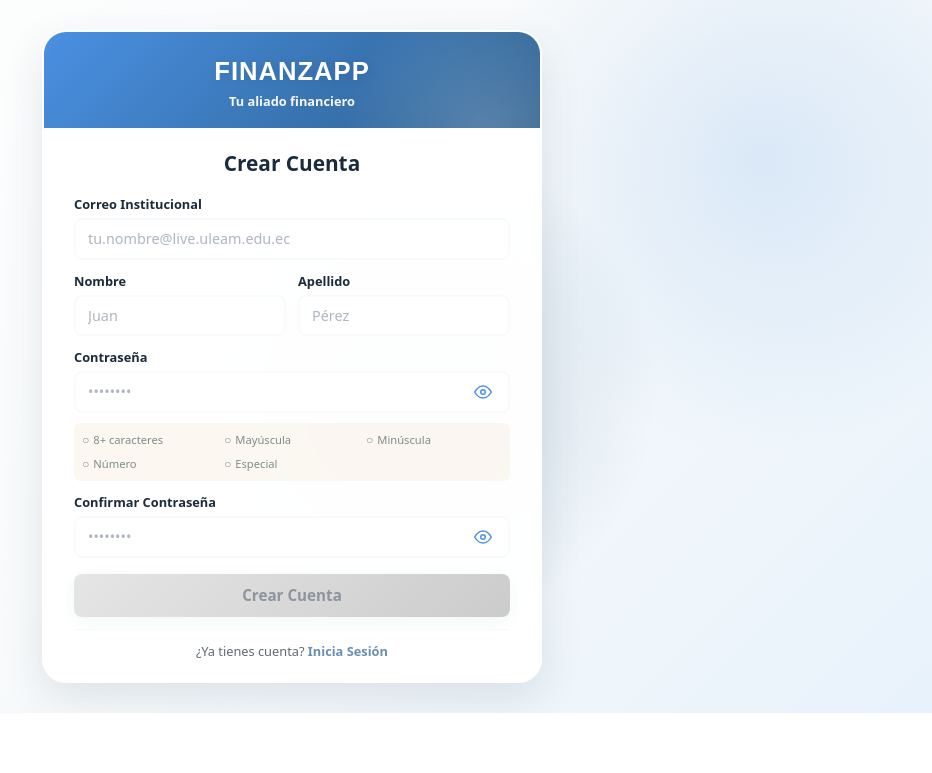
Scenario: Register.vue › Muestra el estado de carga mientras se procesa el registro
This screenshot has width=932, height=773.
Step 1. Type "e1315844999@live.uleam.edu.ec" into the field labelled "Correo Institucional" → (292, 239), box [74,218,510,260]
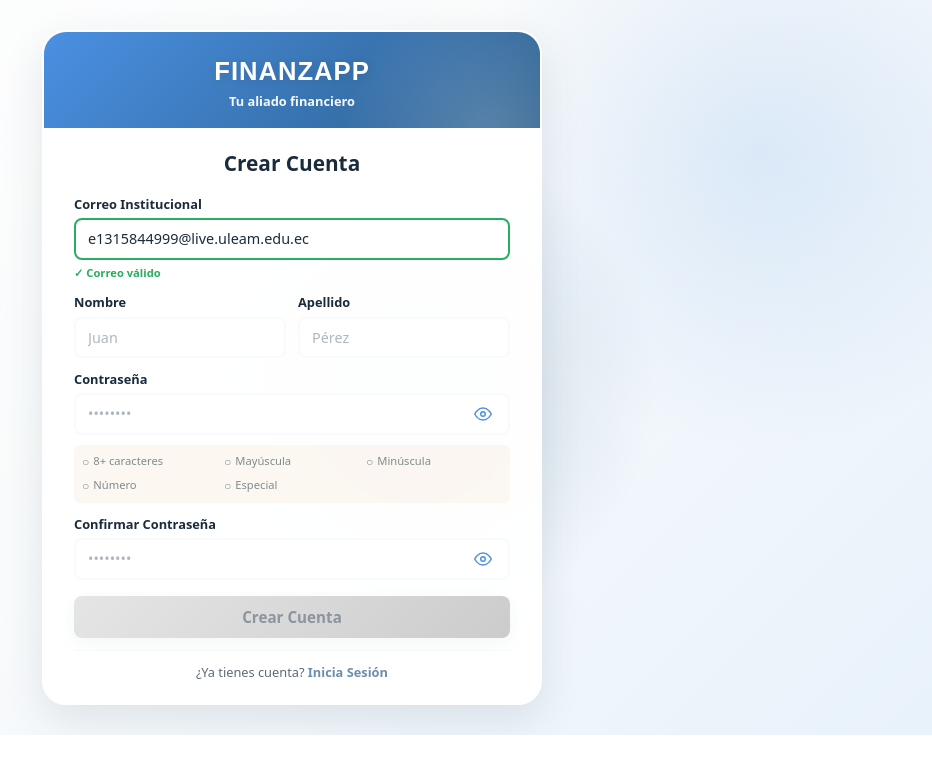
Step 2. Type "David" into the field with id "firstName" → (180, 337), box [74,316,286,358]
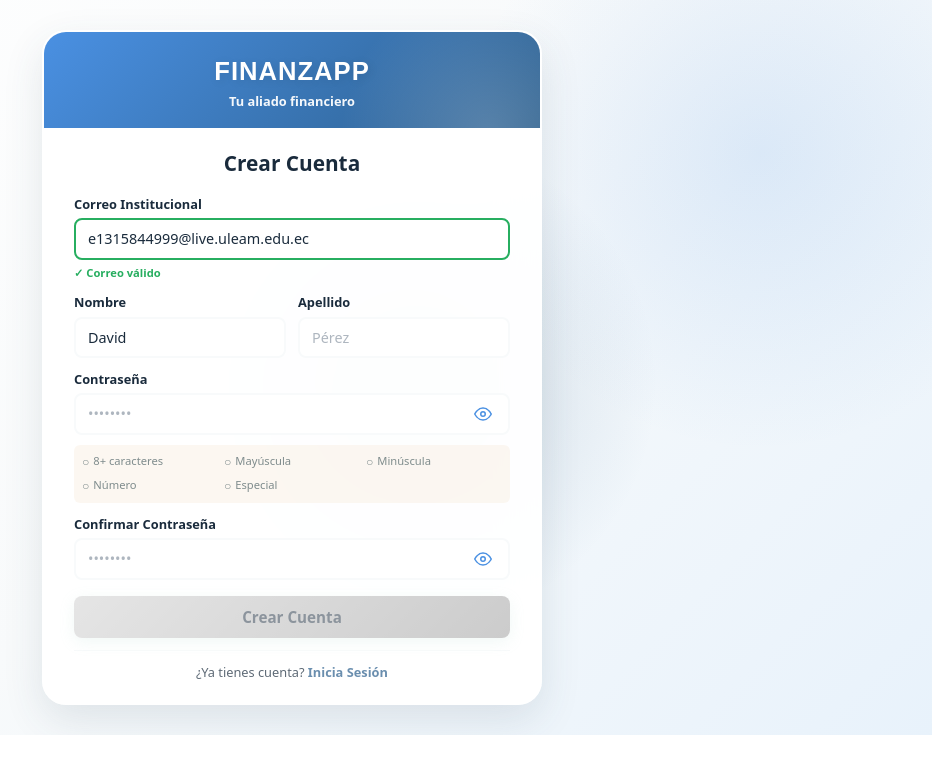
Step 3. Type "Javier" into the field with id "lastName" → (404, 337), box [298,316,510,358]
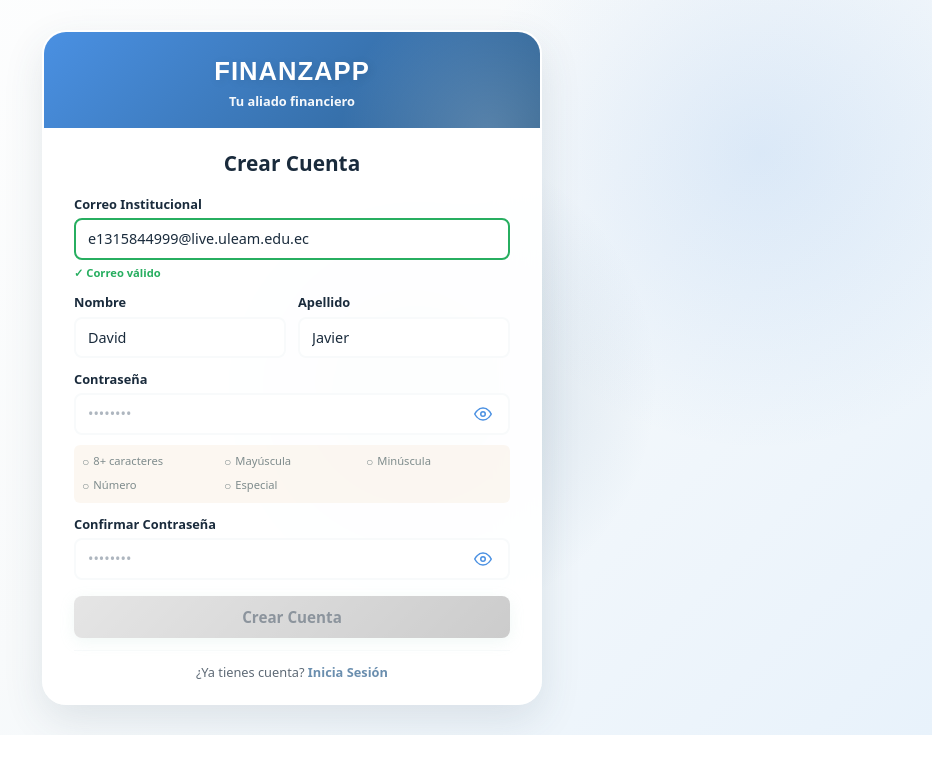
Step 4. Type "David123#" into the password field labelled "Contraseña" → (292, 414), box [74,393,510,435]
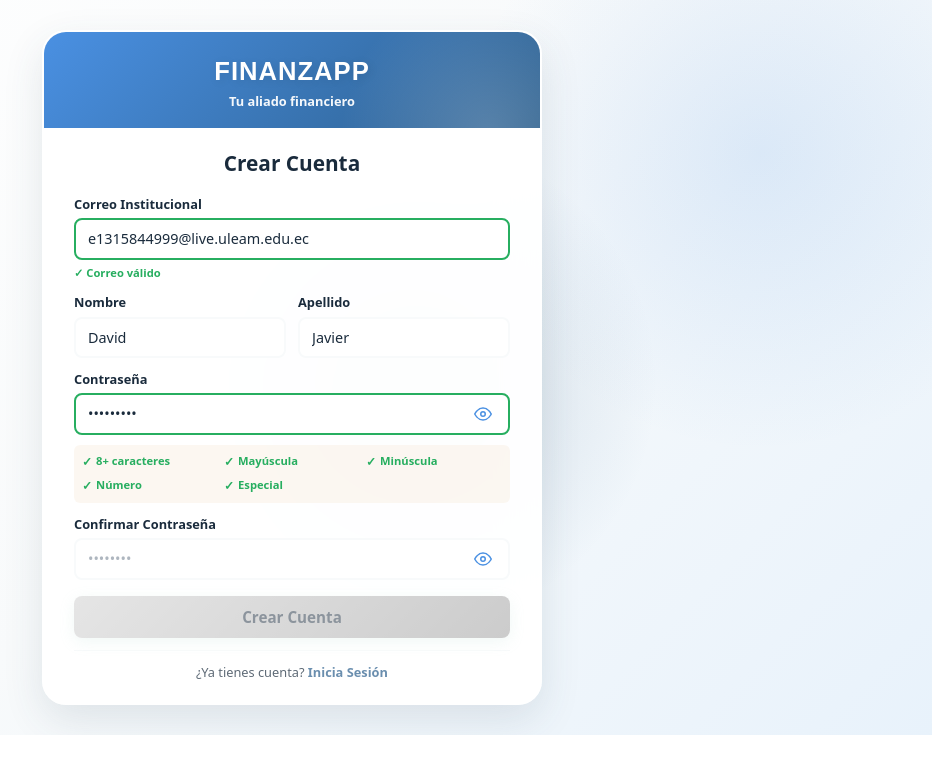
Step 5. Type "David123#" into the password field with id "confirmPassword" → (292, 559), box [74,538,510,580]
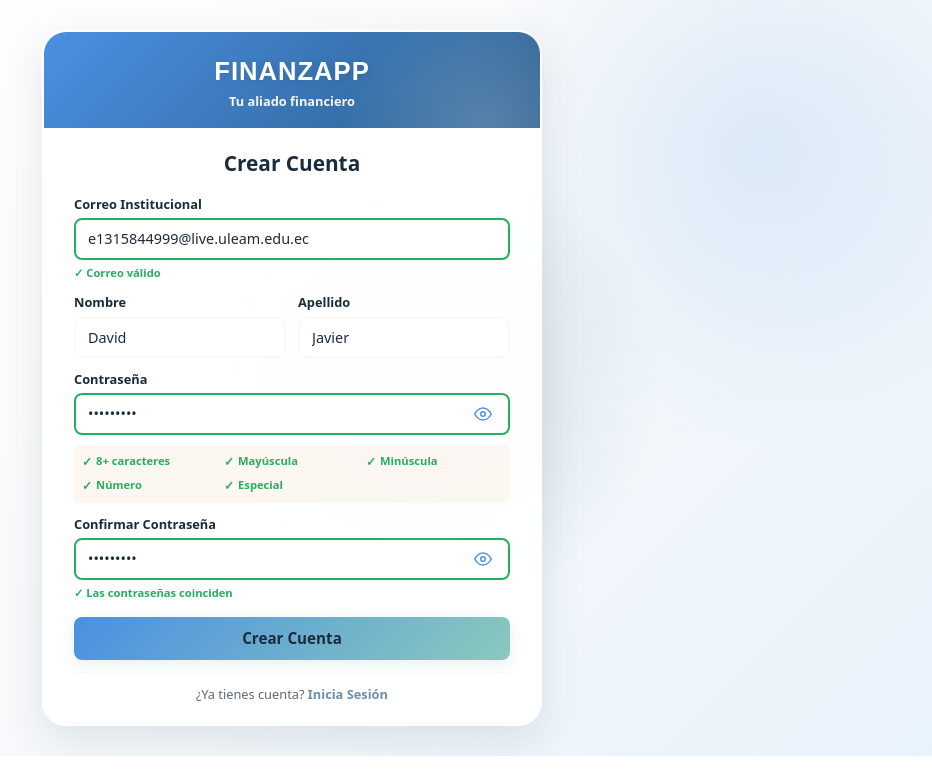
Step 6. Submit the form, box [74,195,510,660]
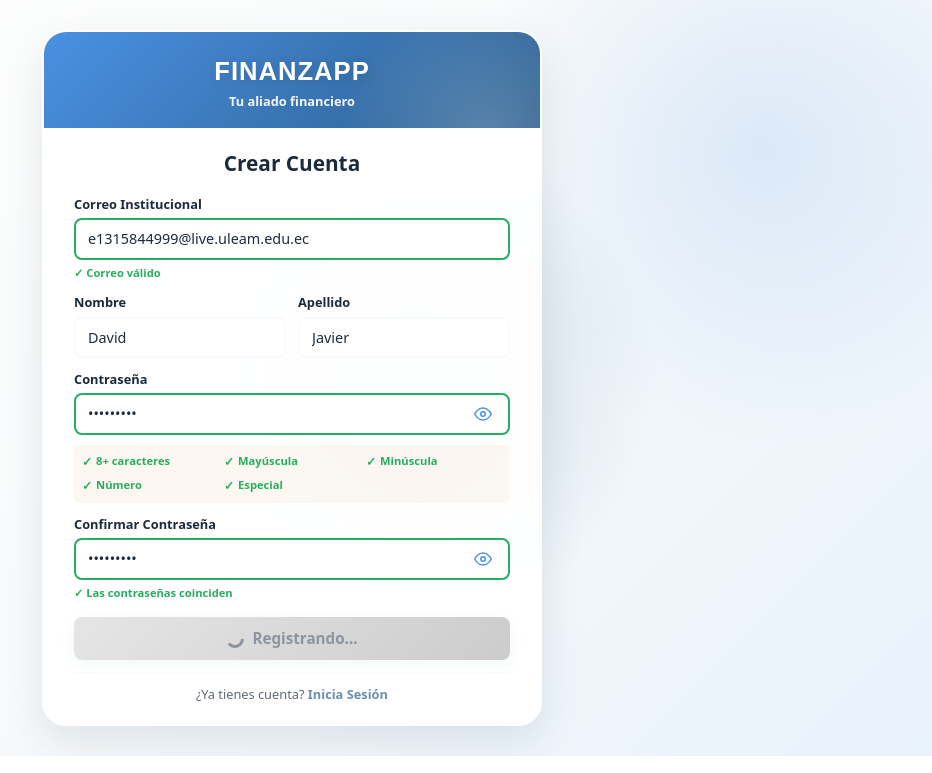
Check: the text "Registrando..." is shown, box [226,628,358,648]
